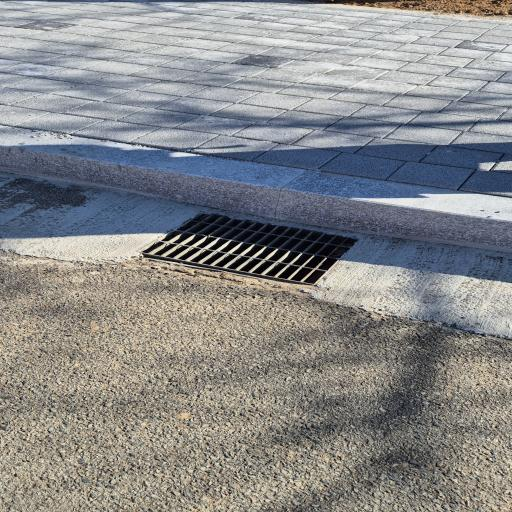drain: (143, 214, 356, 284)
